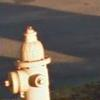Hydrant: (4, 13, 59, 100)
